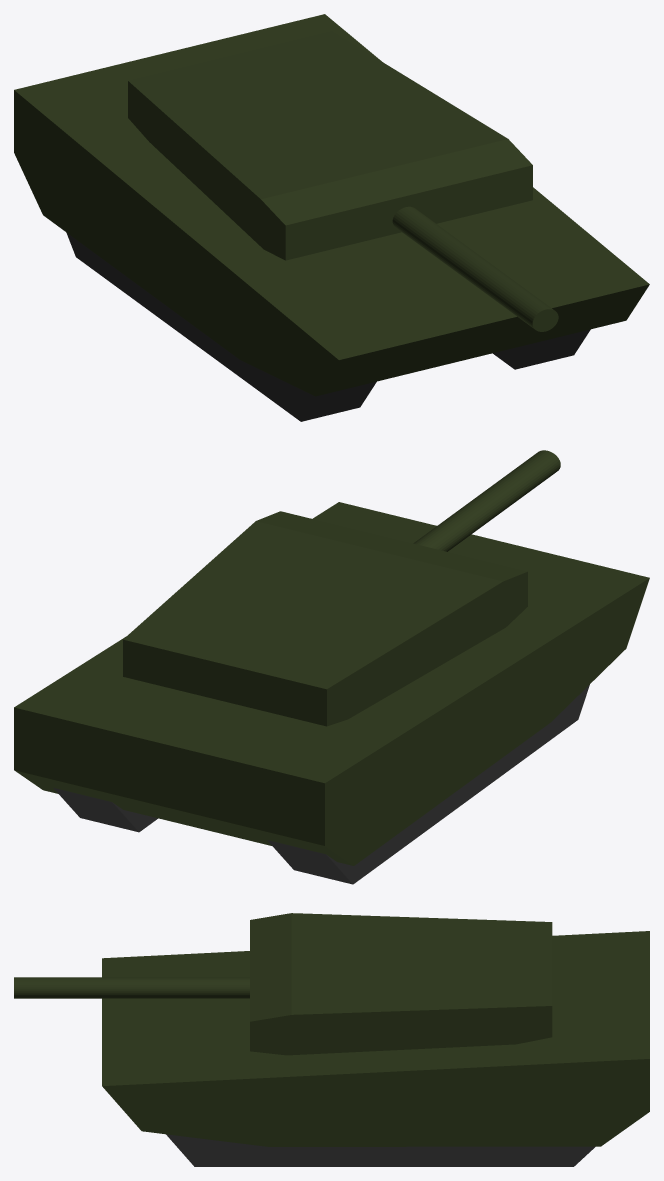
Rendered from tank.obj.
3 views of the same model, one above another, from view 1: azimuth 30°, elevation 25°; view 2: azimuth 150°, elevation 25°; view 3: azimuth 270°, elevation 25° (orthographic). The views are drawn at different scales.
Visible parts, largest first — view 1: Cube, Cube.001, Cube.003, Cylinder, Cube.002_Cube.004; view 2: Cube, Cube.001, Cube.003, Cylinder, Cube.002_Cube.004; view 3: Cube, Cube.001, Cube.002_Cube.004, Cylinder.
Part boxes in pixels (<box>): Cube: <box>14,14,649,396</box>; Cube.001: <box>128,31,532,260</box>; Cube.003: <box>66,232,376,421</box>; Cylinder: <box>392,206,558,331</box>; Cube.002_Cube.004: <box>493,329,590,369</box>; Cube: <box>14,502,649,865</box>; Cube.001: <box>123,511,527,726</box>; Cube.003: <box>267,684,589,884</box>; Cylinder: <box>413,450,560,551</box>; Cube.002_Cube.004: <box>53,787,157,832</box>; Cube: <box>102,931,649,1146</box>; Cube.001: <box>250,913,552,1055</box>; Cube.002_Cube.004: <box>166,1134,595,1166</box>; Cylinder: <box>14,977,249,998</box>.
Size of the model in its own units: 5.57 by 3.02 by 11.7.
